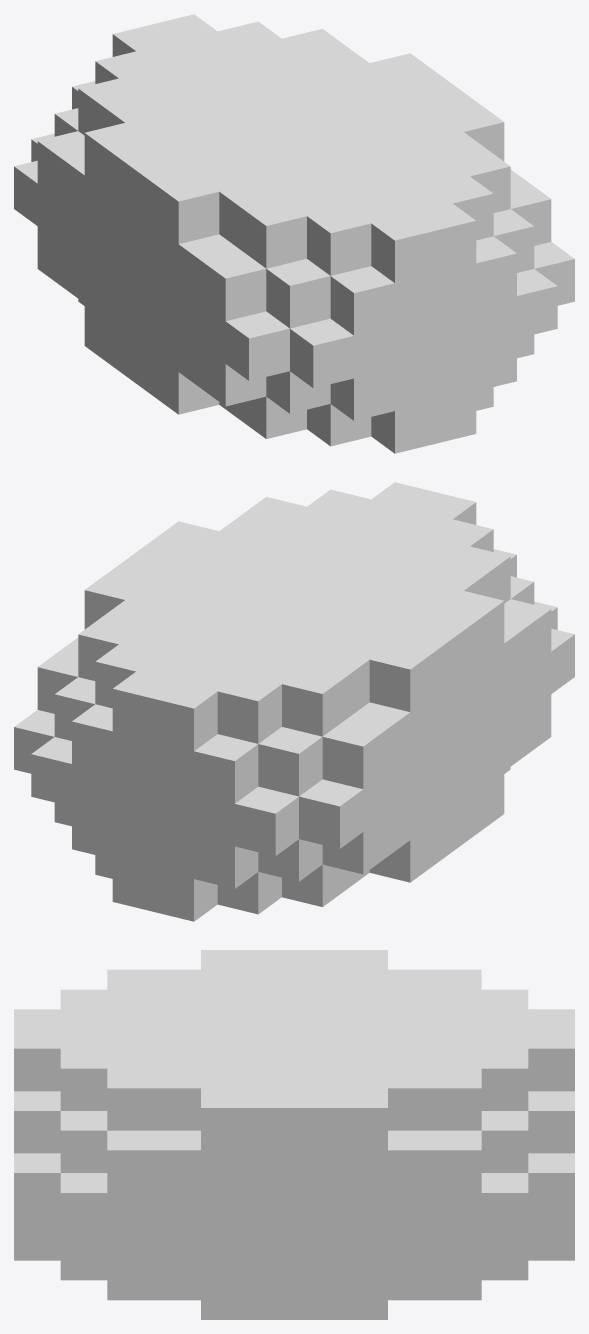
Rendered from mantow_dip.fbx.
The picture shows the model from 3 angles, top to bottom: view 1: azimuth 30°, elevation 25°; view 2: azimuth 150°, elevation 25°; view 3: azimuth 270°, elevation 25°; orthographic projection.
Visible parts, largest first — view 1: mantow_dip:mantow_dip; view 2: mantow_dip:mantow_dip; view 3: mantow_dip:mantow_dip.
Boxes of the visible parts, x1,y1,x2,y2 form: mantow_dip:mantow_dip: (14, 14, 574, 453); mantow_dip:mantow_dip: (14, 482, 574, 921); mantow_dip:mantow_dip: (14, 950, 574, 1319).
Size of the model in its own units: 8 by 5 by 12.
